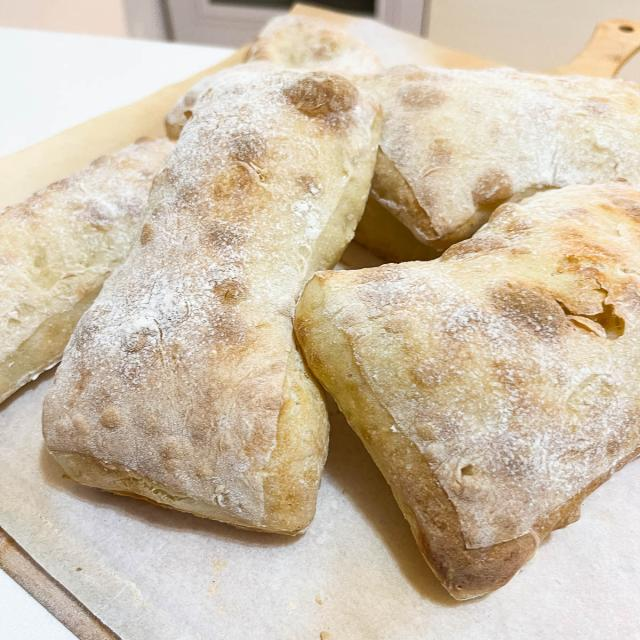Ciabatta: (42, 63, 381, 533), (295, 181, 639, 598), (372, 68, 639, 251), (0, 139, 173, 401)
